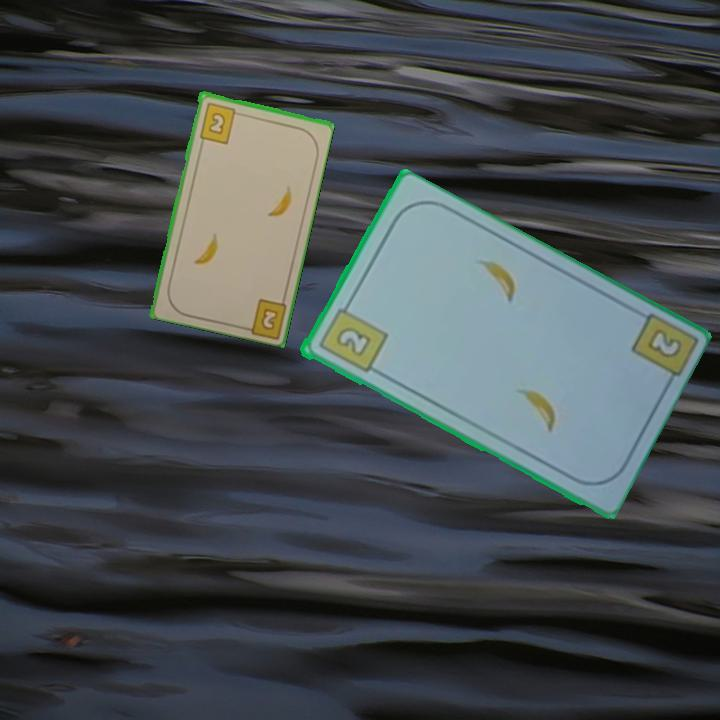2b: (314, 298, 390, 376), (195, 99, 244, 146), (647, 328, 681, 359), (257, 304, 281, 333)
